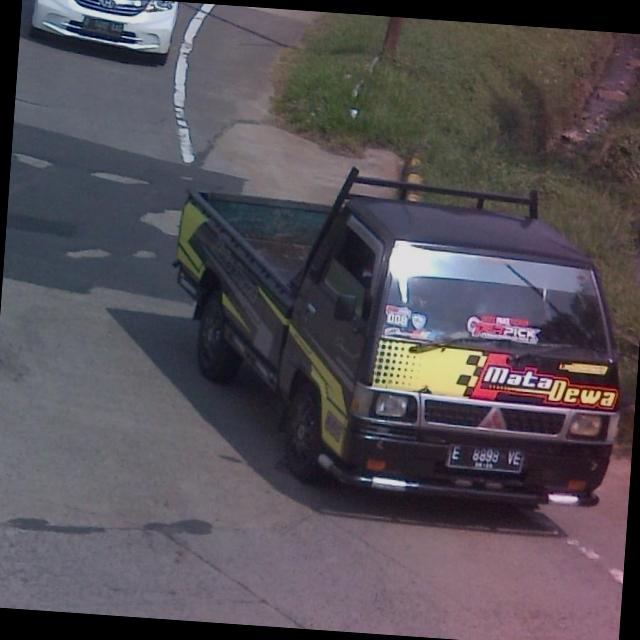plate: (444, 439, 528, 477)
